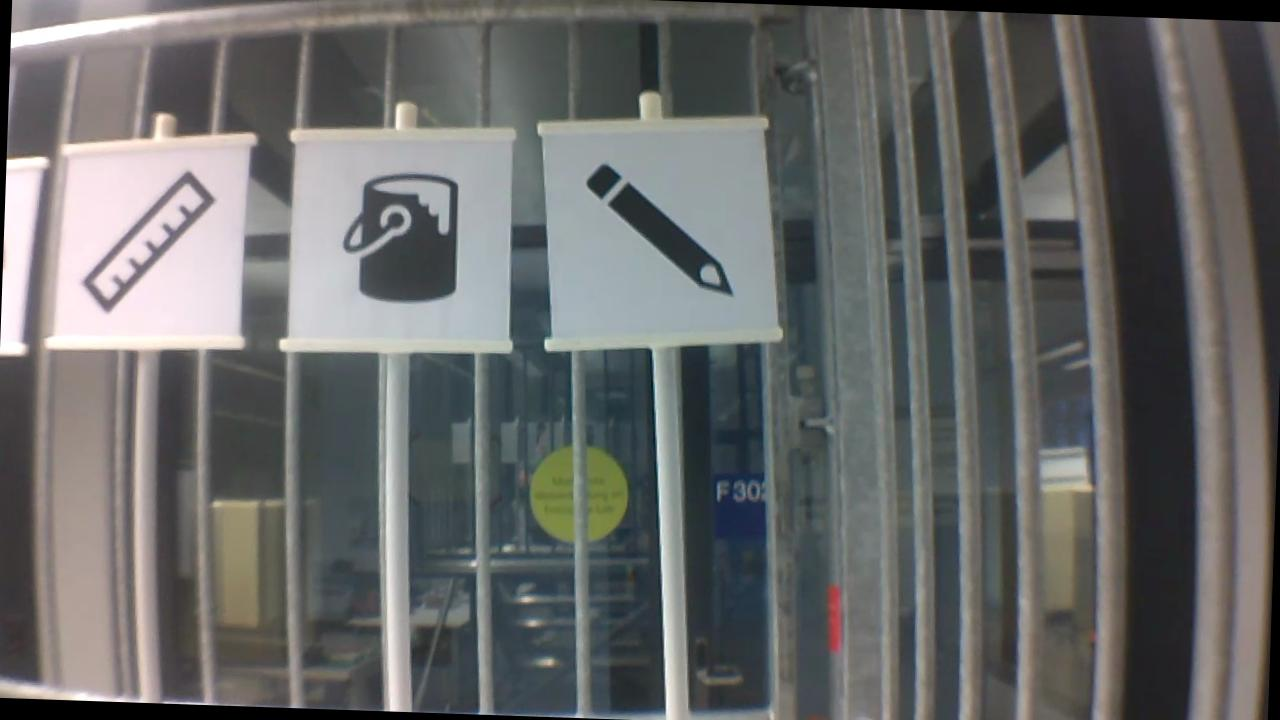bucket: (344, 164, 468, 317)
pencil: (580, 149, 748, 301)
ruler: (69, 166, 230, 326)
